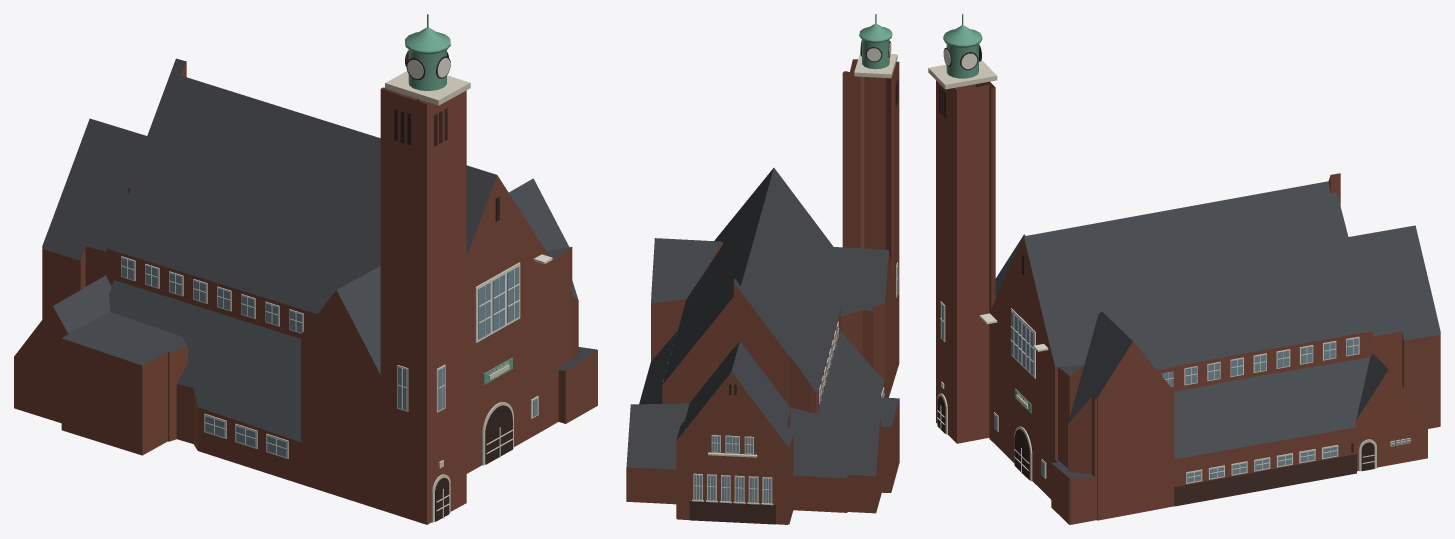
The model's file is willem-de-zwijgerkerk.glb.
3 renders of one model, left to right at view 1: azimuth 30°, elevation 25°; view 2: azimuth 150°, elevation 25°; view 3: azimuth 270°, elevation 25°, orthographic. The views are drawn at different scales.
Visible parts, largest first — view 1: willem-de-zwijgerkerk; view 2: willem-de-zwijgerkerk; view 3: willem-de-zwijgerkerk.
Part boxes in pixels (x1,y1,x2,y2): willem-de-zwijgerkerk: [14, 14, 597, 524]; willem-de-zwijgerkerk: [626, 14, 899, 524]; willem-de-zwijgerkerk: [928, 14, 1440, 524].
Size of the model in its own units: 33.98 by 36.45 by 40.79.
